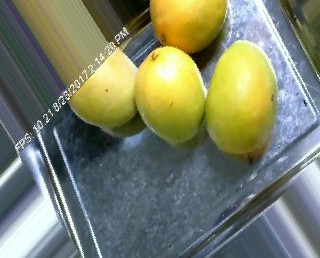Mango: (206, 40, 283, 158), (134, 46, 207, 143)
